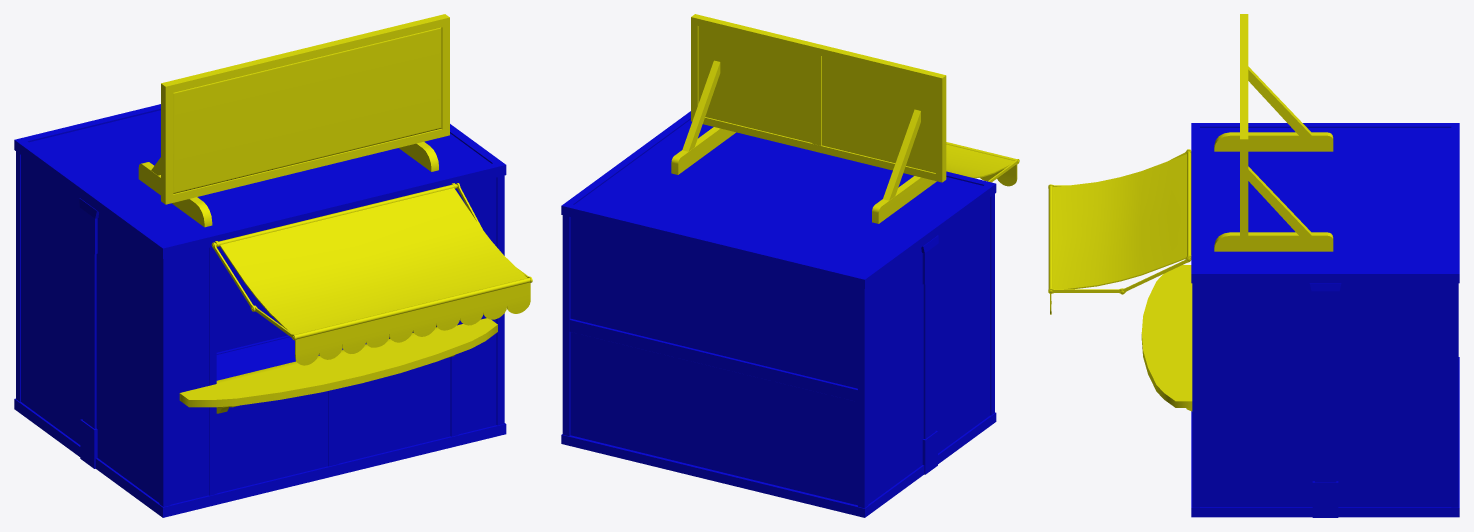
File: Ostrich Burger.fbx
3 renders of one model, left to right at view 1: azimuth 30°, elevation 25°; view 2: azimuth 150°, elevation 25°; view 3: azimuth 270°, elevation 25°, orthographic. The views are drawn at different scales.
Visible parts, largest first — view 1: solidKiosk_sign, solidKiosk_awning, solidKiosk_roofFloor, solidKiosk_frontWall, solidKiosk_sideWall, solidKiosk_sideWall1, solidKiosk_frontWall1, solidKiosk_curvedCounter, solicKiosk_awningTip_teethfixed, solidKiosk_width1, solidKiosk_width3, solidKiosk_signBottom1 (+21 smaller); view 2: solidKiosk_roofFloor, solidKiosk_back, solidKiosk_back1, solidKiosk_sideWall1, solidKiosk_sideWall, solidKiosk_signParticle1, solidKiosk_signParticle, solidKiosk_width, solidKiosk_backBorder, solidKiosk_width2, solidKiosk_signBottom1, solidKiosk_cornerBeam1 (+16 smaller); view 3: solidKiosk_roofFloor, solidKiosk_sideWall7, solidKiosk_sideWall4, solidKiosk_awning, solidKiosk_curvedCounter, solidKiosk_length1, solidKiosk_sideMiddle1, solidKiosk_length3, solidKiosk_signBase1, solidKiosk_signBase, solidKiosk_cornerBeam5, solidKiosk_cornerBeam3 (+11 smaller).
Boxes of the visible parts, bbox=[...] form: solidKiosk_sign: bbox=[173, 27, 441, 193]; solidKiosk_awning: bbox=[220, 188, 527, 334]; solidKiosk_roofFloor: bbox=[29, 110, 491, 242]; solidKiosk_frontWall: bbox=[170, 247, 328, 504]; solidKiosk_sideWall: bbox=[96, 212, 159, 502]; solidKiosk_sideWall1: bbox=[21, 155, 82, 444]; solidKiosk_frontWall1: bbox=[339, 177, 496, 463]; solidKiosk_curvedCounter: bbox=[179, 318, 497, 407]; solicKiosk_awningTip_teethfixed: bbox=[295, 282, 530, 365]; solidKiosk_width1: bbox=[163, 163, 506, 258]; solidKiosk_width3: bbox=[163, 424, 506, 517]; solidKiosk_signBottom1: bbox=[161, 14, 449, 92]; solidKiosk_roofFloor: bbox=[574, 119, 982, 274]; solidKiosk_back: bbox=[570, 332, 857, 505]; solidKiosk_back1: bbox=[570, 217, 857, 388]; solidKiosk_sideWall1: bbox=[868, 248, 923, 504]; solidKiosk_sideWall: bbox=[935, 197, 990, 453]; solidKiosk_signParticle1: bbox=[698, 26, 812, 142]; solidKiosk_signParticle: bbox=[822, 56, 935, 172]; solidKiosk_width: bbox=[561, 204, 864, 288]; solidKiosk_backBorder: bbox=[569, 318, 857, 401]; solidKiosk_width2: bbox=[561, 434, 864, 517]; solidKiosk_signBottom1: bbox=[691, 14, 945, 83]; solidKiosk_cornerBeam1: bbox=[858, 286, 868, 508]; solidKiosk_roofFloor: bbox=[1200, 128, 1451, 270]; solidKiosk_sideWall7: bbox=[1336, 283, 1451, 507]; solidKiosk_sideWall4: bbox=[1200, 283, 1314, 507]; solidKiosk_awning: bbox=[1053, 154, 1186, 289]; solidKiosk_curvedCounter: bbox=[1141, 265, 1192, 407]; solidKiosk_length1: bbox=[1191, 270, 1459, 283]; solidKiosk_sideMiddle1: bbox=[1315, 324, 1336, 482]; solidKiosk_length3: bbox=[1191, 507, 1459, 517]; solidKiosk_signBase1: bbox=[1214, 232, 1333, 251]; solidKiosk_signBase: bbox=[1214, 132, 1333, 151]; solidKiosk_cornerBeam5: bbox=[1451, 283, 1458, 507]; solidKiosk_cornerBeam3: bbox=[1192, 283, 1199, 507].
Size of the model in its own units: 4.03 by 4.5 by 4.6.
